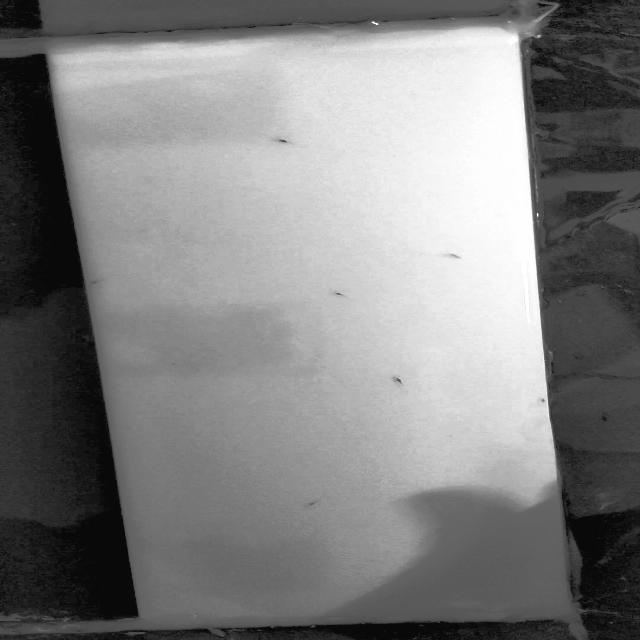shrimp: (297, 492, 319, 513), (386, 372, 412, 387), (322, 288, 351, 298), (266, 136, 293, 146)
